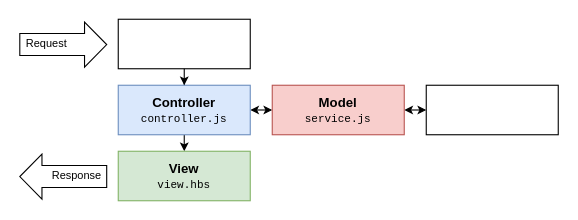
Image size: 578x220. Some labels were removed from this diagram. The shapes that lost their labels are listed below. From the top down, each one's centre as x and y in pixels, then its label:
At pixel 183 43: "Front Controller routes.js".
At pixel 491 109: "Data Source service.js".
